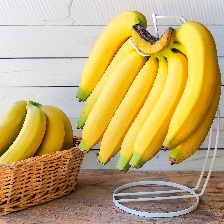banana: (45, 5, 221, 194)
